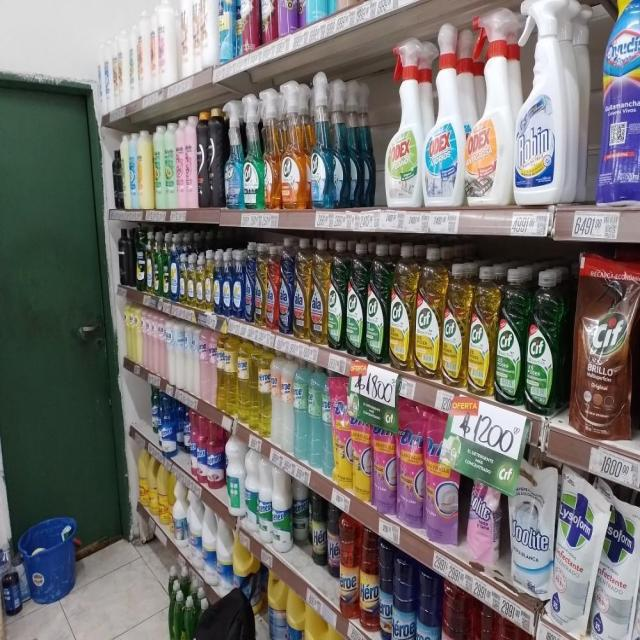ala_conc_amarillo: (310, 238, 327, 345), (294, 239, 310, 340), (255, 243, 267, 326)
ala_conc_azul: (279, 237, 293, 336)
ala_conc_rojo: (266, 242, 278, 332)
ala_crem_amarillo: (128, 301, 134, 360), (136, 305, 142, 364)
cif_conc_bot_amarilla: (416, 244, 442, 380), (468, 263, 494, 396), (442, 260, 468, 388), (390, 244, 414, 370)
cif_conc_botella_verde: (526, 267, 564, 416), (496, 266, 524, 406), (366, 242, 389, 363), (346, 241, 365, 356), (328, 240, 346, 350)
drive: (425, 412, 460, 545), (397, 400, 424, 528), (353, 379, 371, 502)
heroe: (294, 358, 308, 462), (281, 352, 294, 452), (258, 342, 271, 437), (238, 338, 252, 425), (322, 366, 332, 475), (271, 349, 281, 445)
magistral_con_amarillo: (204, 249, 213, 312), (171, 243, 180, 302), (195, 251, 204, 309), (146, 230, 154, 294), (187, 253, 196, 308), (179, 251, 186, 305)
magistral_con_azul: (310, 74, 331, 209), (232, 248, 244, 319), (245, 244, 254, 323), (222, 249, 232, 317), (213, 249, 221, 314)
odex: (281, 84, 307, 211)
